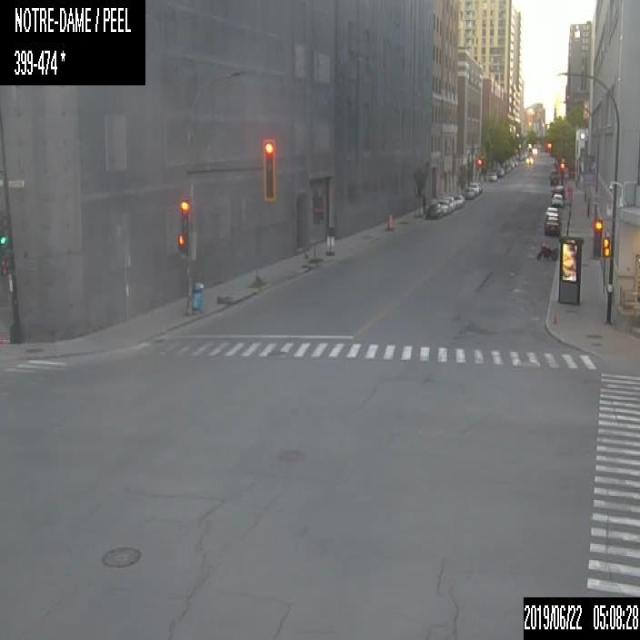construction: (325, 225, 335, 254), (387, 212, 393, 228)
vehicle: (538, 243, 558, 260), (544, 217, 560, 234), (425, 203, 442, 218), (436, 198, 450, 214), (550, 184, 564, 197), (442, 196, 454, 210), (544, 206, 558, 217), (551, 193, 563, 205), (468, 181, 481, 192), (454, 194, 464, 207), (486, 170, 497, 181), (464, 187, 474, 198), (550, 176, 558, 183)
